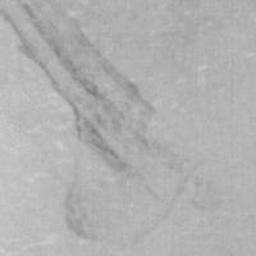Water spot: (0, 0, 200, 243)
